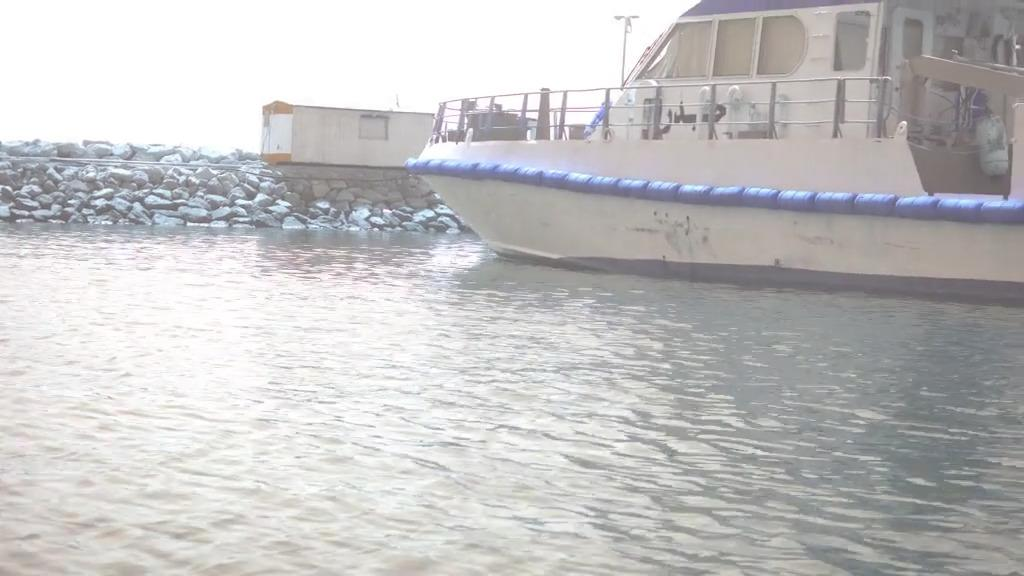PassengerShip: (395, 0, 1024, 305)
